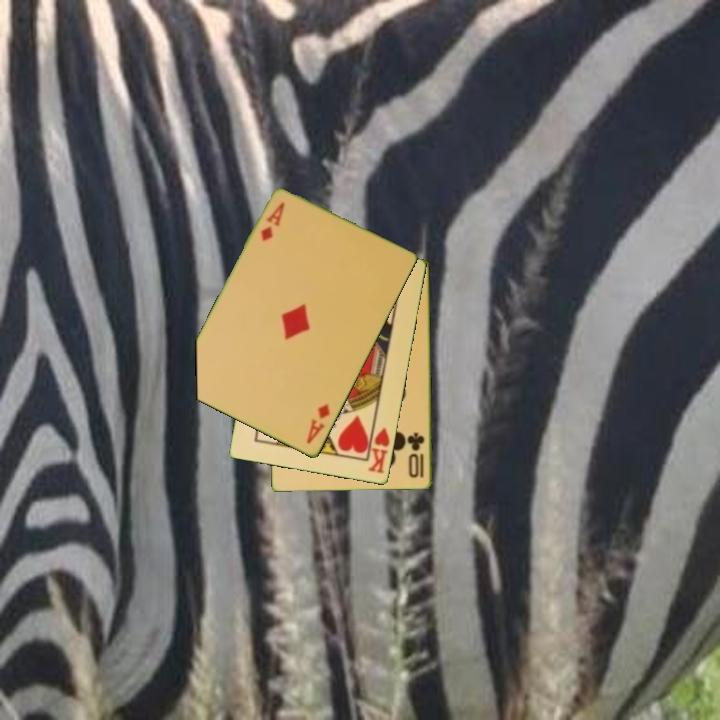10c: (406, 429, 427, 481)
Ad: (303, 400, 333, 447), (257, 199, 288, 244)
Kh: (364, 420, 393, 477)
